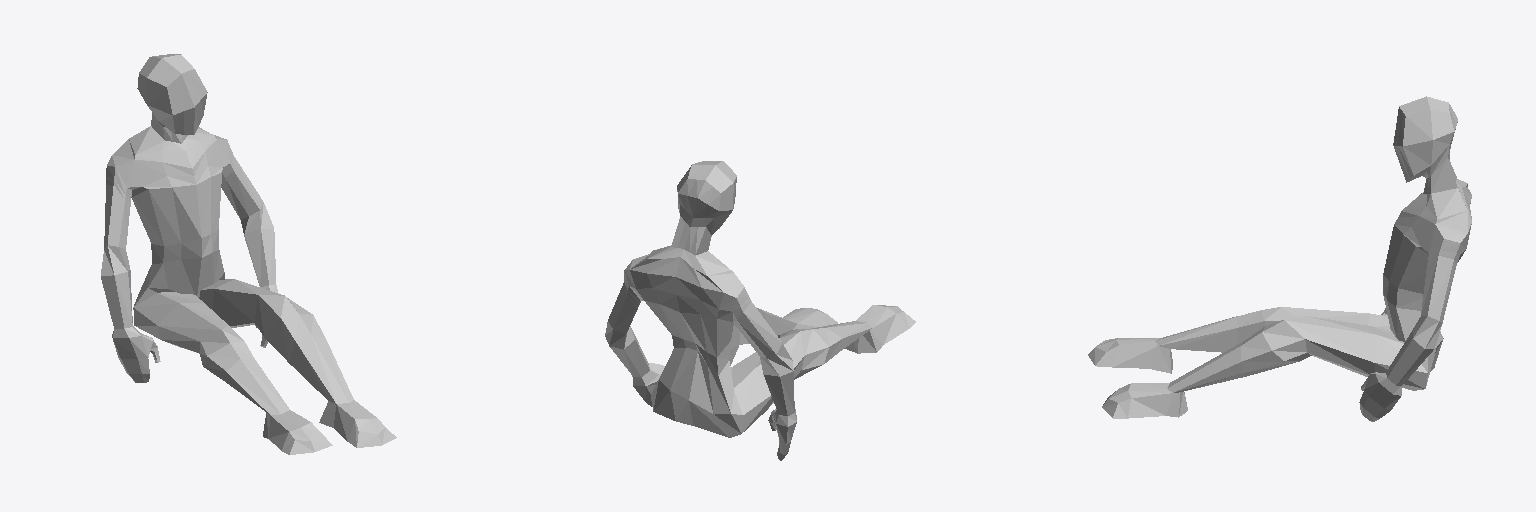
The model's file is dead_body_6.obj.
3 views of the same model, side by side, from view 1: azimuth 30°, elevation 25°; view 2: azimuth 150°, elevation 25°; view 3: azimuth 270°, elevation 25° (orthographic).
Visible parts, largest first — view 1: standard; view 2: standard; view 3: standard.
Part boxes in pixels (left/top/right/bottom): standard: left=101, top=54, right=396, bottom=454; standard: left=605, top=161, right=915, bottom=460; standard: left=1088, top=96, right=1471, bottom=421.
Bounding box in the file's own units: 1.33 × 2.1 × 2.44.